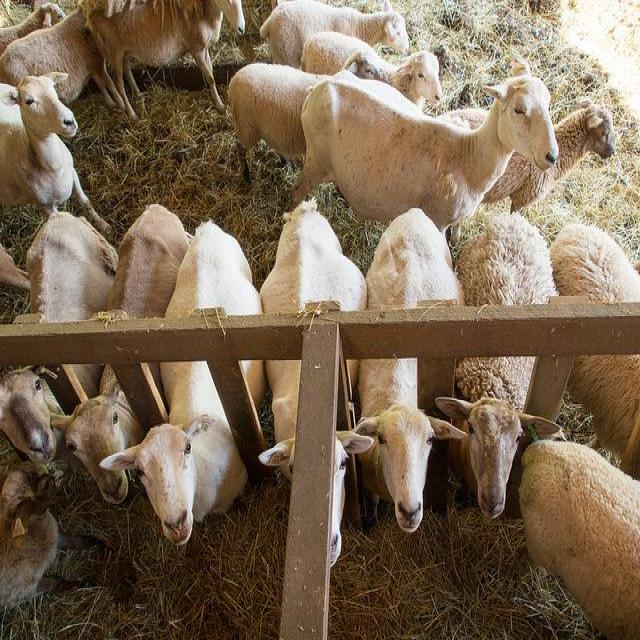Sheep: (0, 0, 620, 216), (96, 218, 266, 550), (278, 48, 561, 233), (259, 199, 374, 572), (436, 212, 561, 519), (354, 210, 471, 534), (0, 211, 119, 460), (1, 69, 113, 292), (518, 436, 639, 639), (552, 224, 639, 479), (51, 364, 145, 504), (297, 31, 443, 108), (0, 461, 74, 608), (105, 206, 187, 322)
